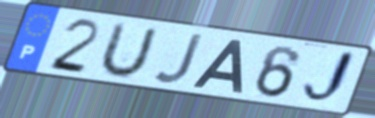2: (47, 17, 102, 76)
6: (253, 44, 304, 99)
A: (189, 37, 246, 95)
J: (299, 48, 359, 107), (151, 32, 207, 86)
U: (94, 20, 161, 80)
